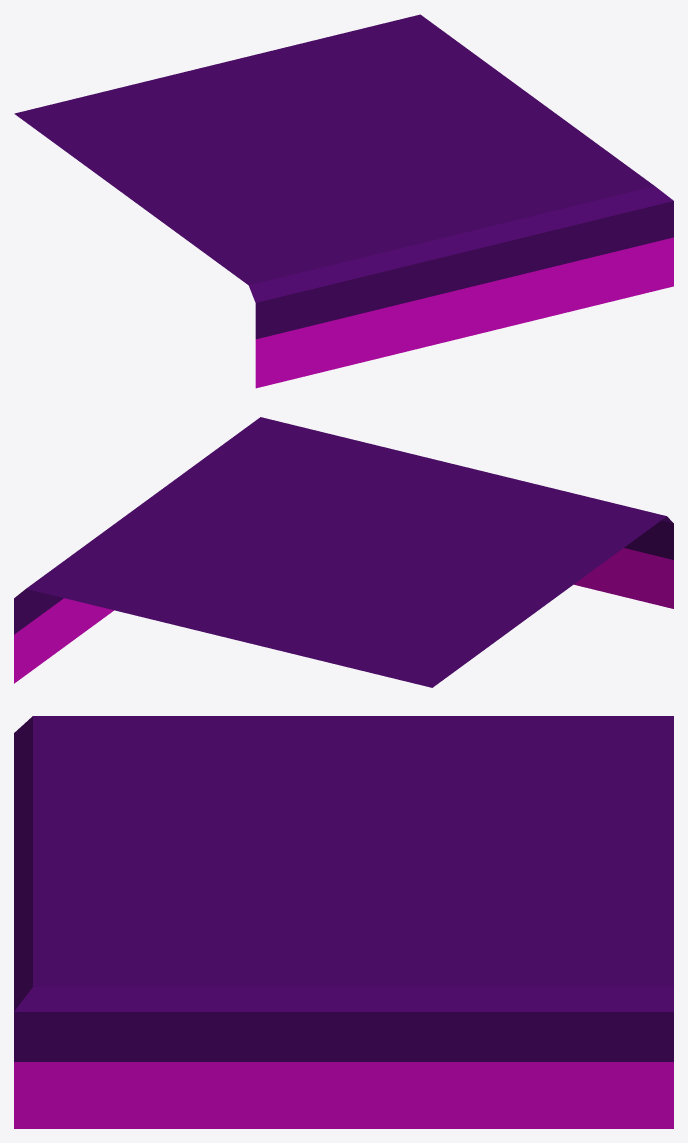
Rendered from museum_tile.fbx.
The picture shows the model from 3 angles, top to bottom: view 1: azimuth 30°, elevation 25°; view 2: azimuth 150°, elevation 25°; view 3: azimuth 270°, elevation 25°; orthographic projection. The views are drawn at different scales.
Visible parts, largest first — view 1: tile; view 2: tile; view 3: tile.
Part boxes in pixels (<box>): tile: <box>14,14,673,388</box>; tile: <box>14,417,673,687</box>; tile: <box>14,716,673,1128</box>.
Size of the model in its own units: 2 by 0.4478 by 2.
